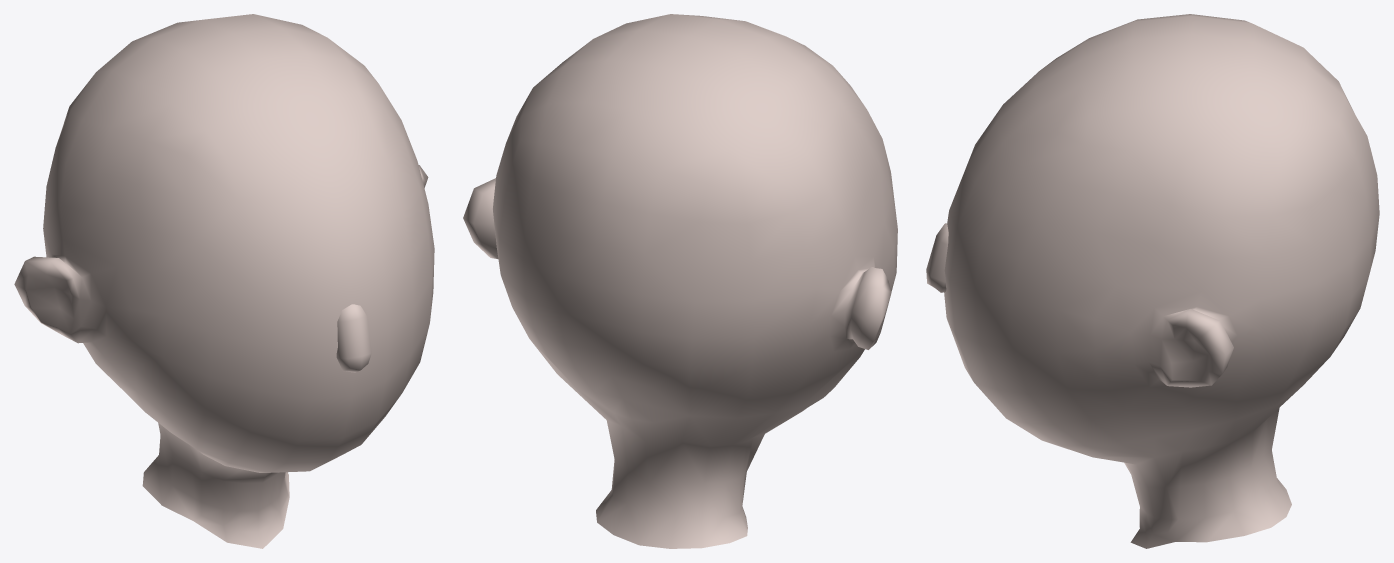
File: CharcaterFemaleOnlyHead.fbx
The picture shows the model from 3 angles, left to right: view 1: azimuth 30°, elevation 25°; view 2: azimuth 150°, elevation 25°; view 3: azimuth 270°, elevation 25°; orthographic projection. The views are drawn at different scales.
Parts seen in each view (by area): view 1: Head; view 2: Head; view 3: Head.
Part boxes in pixels (x1=…): Head: x1=14, y1=14, x2=434, y2=548; Head: x1=463, y1=14, x2=897, y2=548; Head: x1=926, y1=14, x2=1379, y2=548.
Size of the model in its own units: 31.13 by 36.24 by 29.32.
